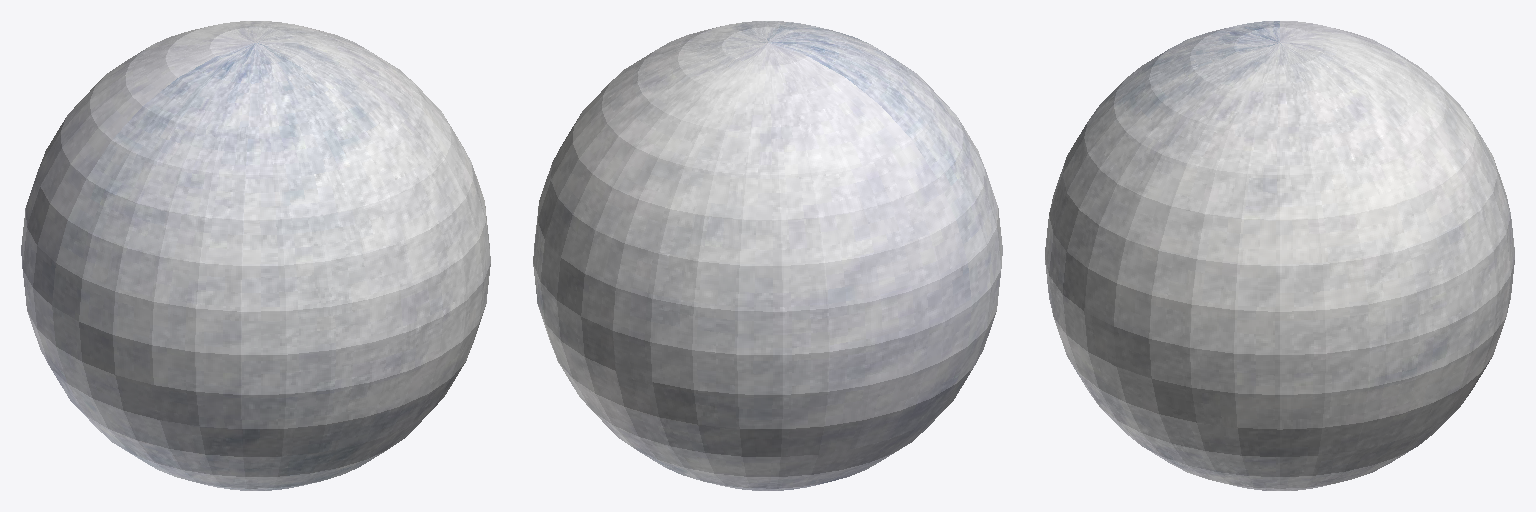
The picture shows the model from 3 angles: view 1: azimuth 30°, elevation 25°; view 2: azimuth 150°, elevation 25°; view 3: azimuth 270°, elevation 25°; orthographic projection.
Visible parts, largest first — view 1: Sphere; view 2: Sphere; view 3: Sphere.
Boxes of the visible parts, x1,y1,x2,y2 form: Sphere: [21, 21, 490, 490]; Sphere: [533, 21, 1002, 490]; Sphere: [1045, 21, 1514, 490].
Bounding box in the file's own units: 0.0109 × 0.0109 × 0.0109.
Materials: 1 (1 with a texture image).